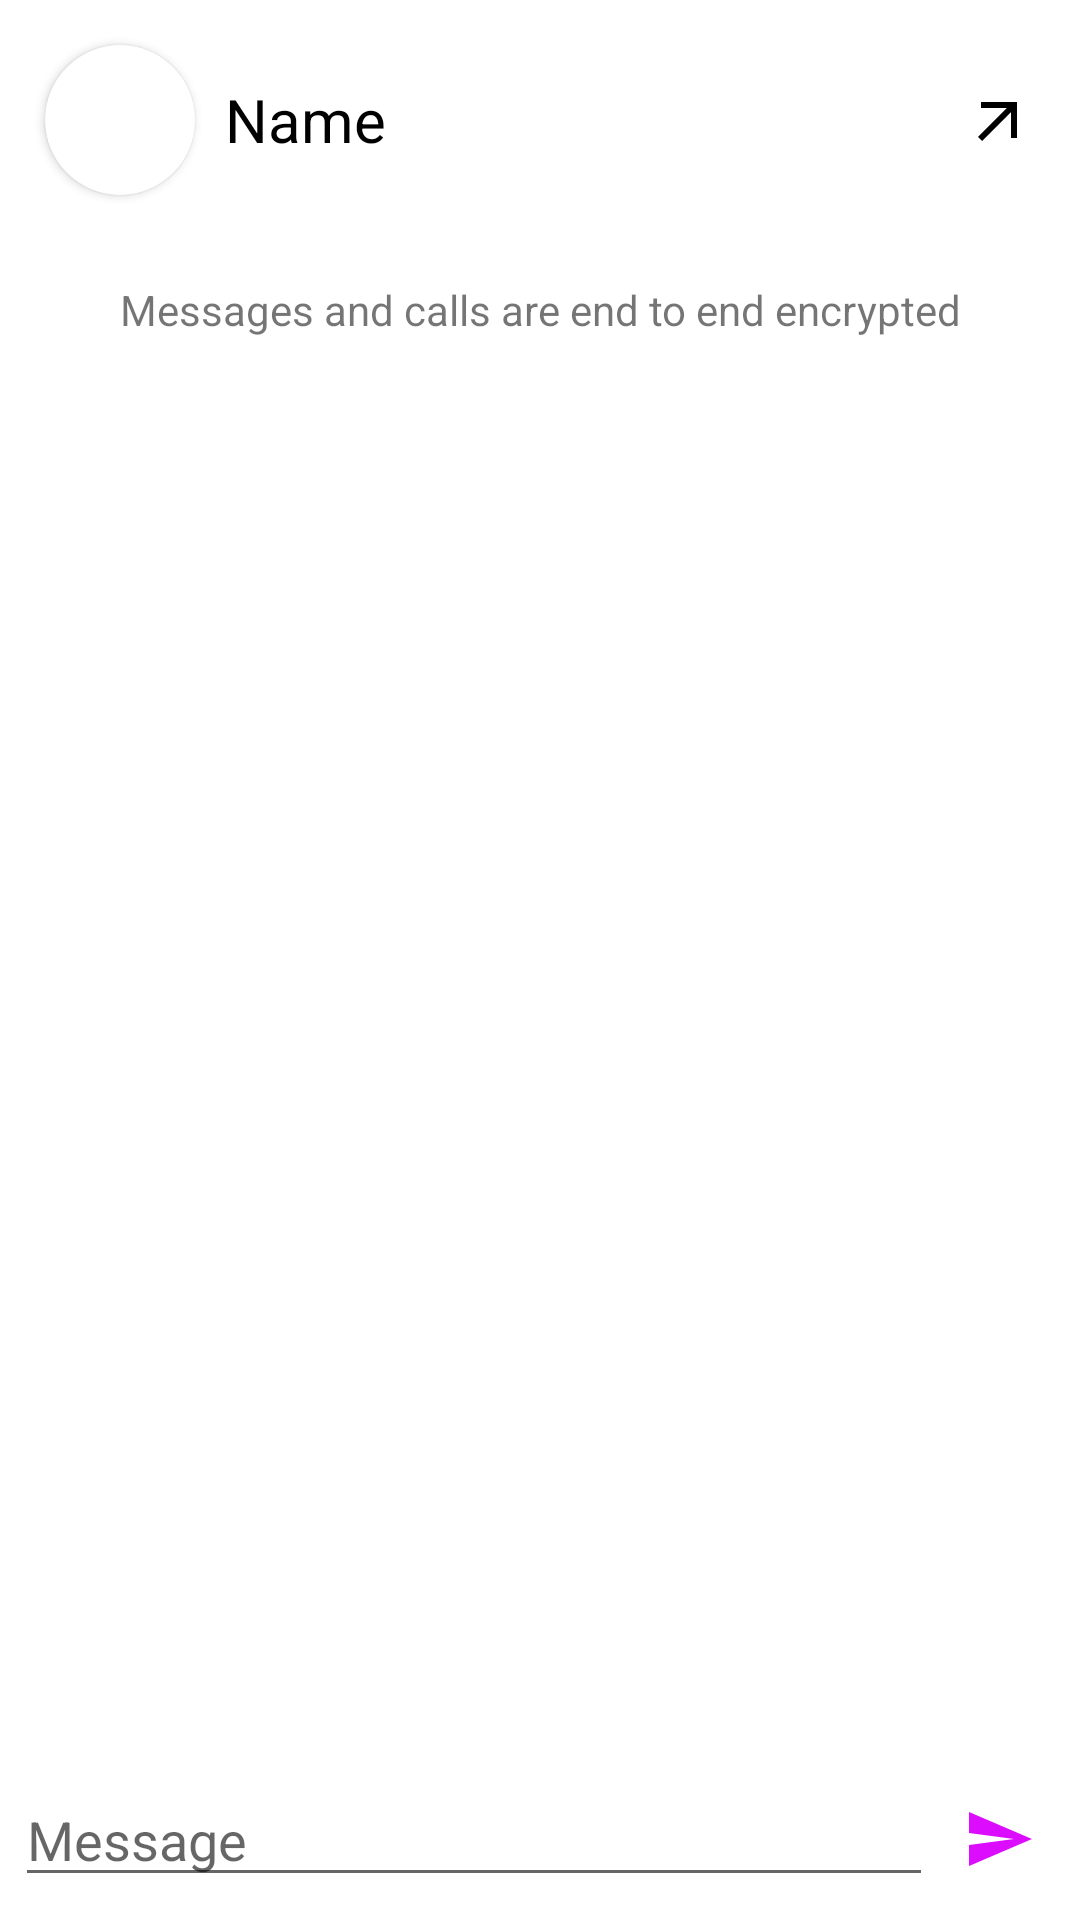

Screen size 1080*1920. Icon name, then its center in pixels as point (x, y):
arrow outward: point (997, 121)
send: point (1000, 1839)
